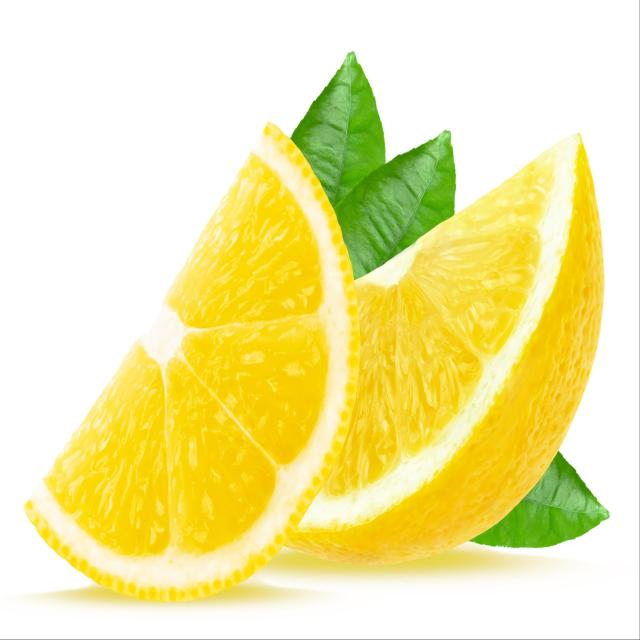lemon: (19, 116, 362, 608)
